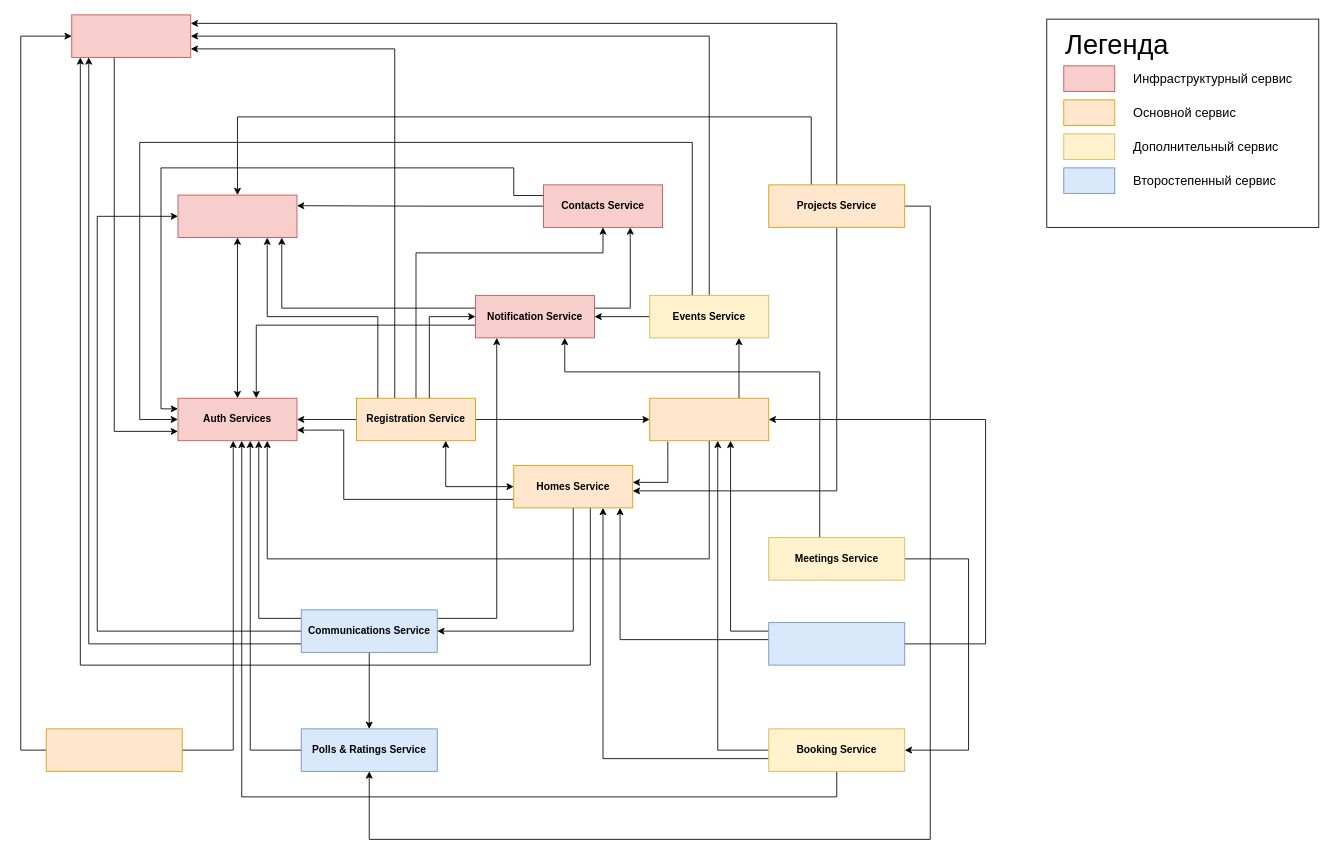
Image size: 1335x861. Some labels were removed from this diagram. The shapes that lost their labels are listed below. From the top down, each one's box as (x1, y1, x2, y2) in pixels, then its label:
(71, 14, 191, 57): File Storage Service
(177, 194, 297, 238): Users Service
(649, 397, 769, 441): Residents Service
(768, 622, 905, 665): Metering Devices Service
(45, 728, 182, 771): FAQ Service
